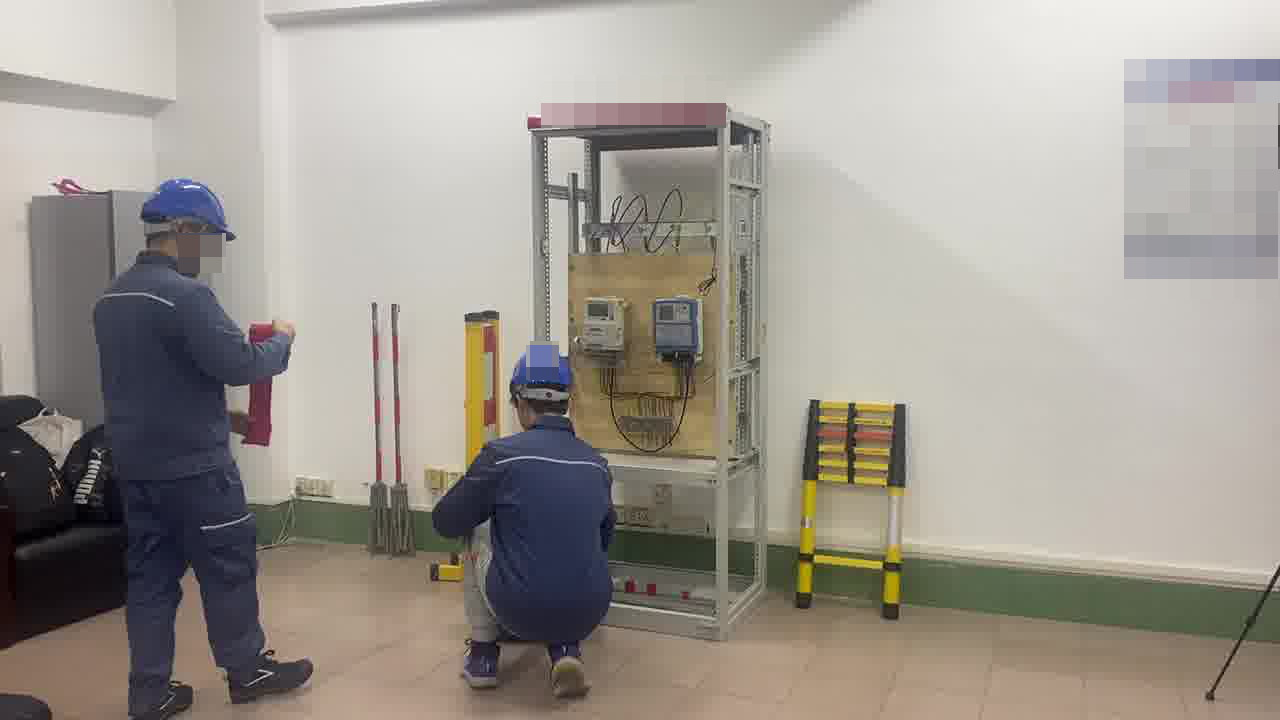downcloth: (461, 526, 510, 648)
downsuit: (119, 476, 268, 674)
halt: (139, 178, 234, 271), (506, 347, 575, 425)
hand: (270, 316, 298, 341)
inear: (171, 217, 199, 266)
person: (93, 178, 314, 720), (428, 346, 620, 702)
upsuit: (95, 255, 291, 475), (428, 421, 616, 629)
